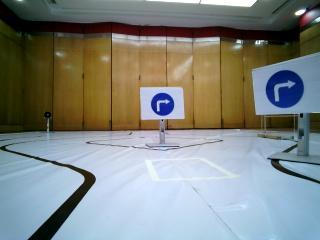right: (249, 65, 318, 111), (140, 87, 187, 119)
